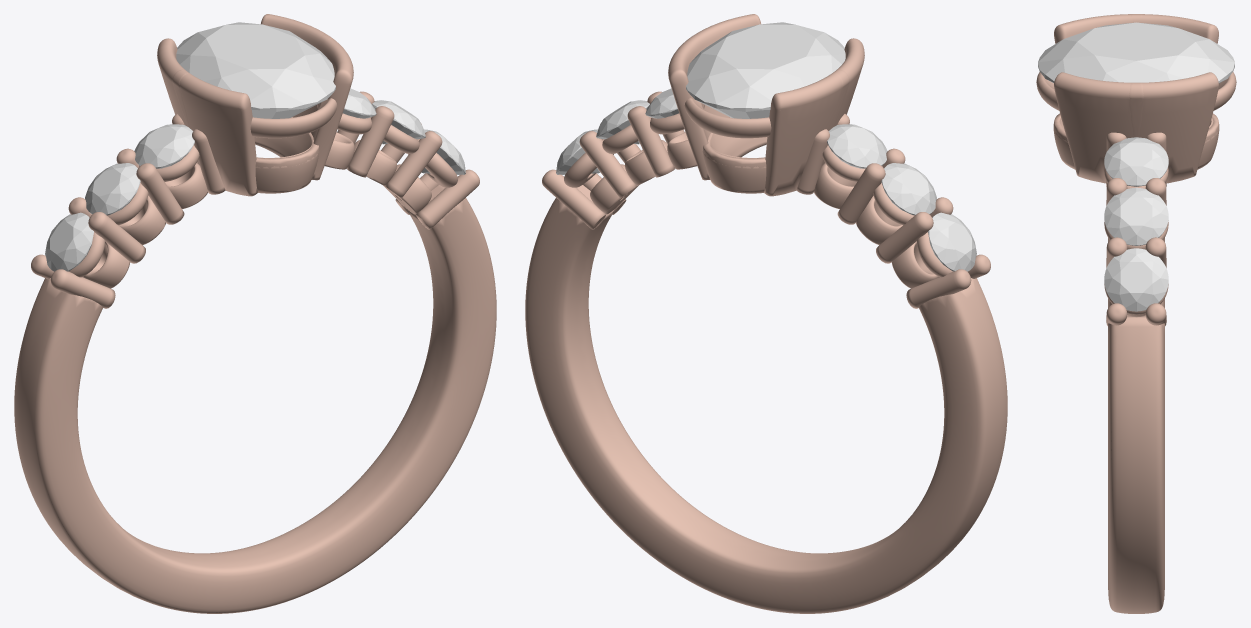
File: diamond-oval-rosegold-halfmoonbezel-straightband-7stone.glb
3 renders of one model, left to right at view 1: azimuth 30°, elevation 25°; view 2: azimuth 150°, elevation 25°; view 3: azimuth 270°, elevation 25°, orthographic.
Visible parts, largest first — view 1: metal, stone.003, side.006, side.007, side.008, side.010, side.011, side.009; view 2: metal, stone.003, side.006, side.007, side.008, side.010, side.011, side.009; view 3: metal, stone.003, side.009, side.010, side.011.
Boxes of the visible parts, x1=… form: metal: x1=14, y1=14, x2=496, y2=613; stone.003: x1=176, y1=22, x2=335, y2=118; side.006: x1=45, y1=212, x2=93, y2=271; side.007: x1=85, y1=163, x2=140, y2=215; side.008: x1=134, y1=124, x2=194, y2=168; side.010: x1=372, y1=100, x2=425, y2=144; side.011: x1=343, y1=88, x2=376, y2=118; side.009: x1=421, y1=129, x2=465, y2=174; metal: x1=525, y1=14, x2=1007, y2=613; stone.003: x1=686, y1=22, x2=845, y2=118; side.006: x1=928, y1=212, x2=976, y2=271; side.007: x1=881, y1=163, x2=936, y2=215; side.008: x1=827, y1=124, x2=887, y2=168; side.010: x1=596, y1=100, x2=649, y2=144; side.011: x1=645, y1=88, x2=678, y2=118; side.009: x1=556, y1=129, x2=600, y2=174; metal: x1=1036, y1=14, x2=1236, y2=613; stone.003: x1=1038, y1=22, x2=1234, y2=83; side.009: x1=1104, y1=248, x2=1168, y2=311; side.010: x1=1104, y1=187, x2=1168, y2=245; side.011: x1=1104, y1=137, x2=1168, y2=186.
Size of the model in its own units: 20.49 by 23.41 by 7.75.
